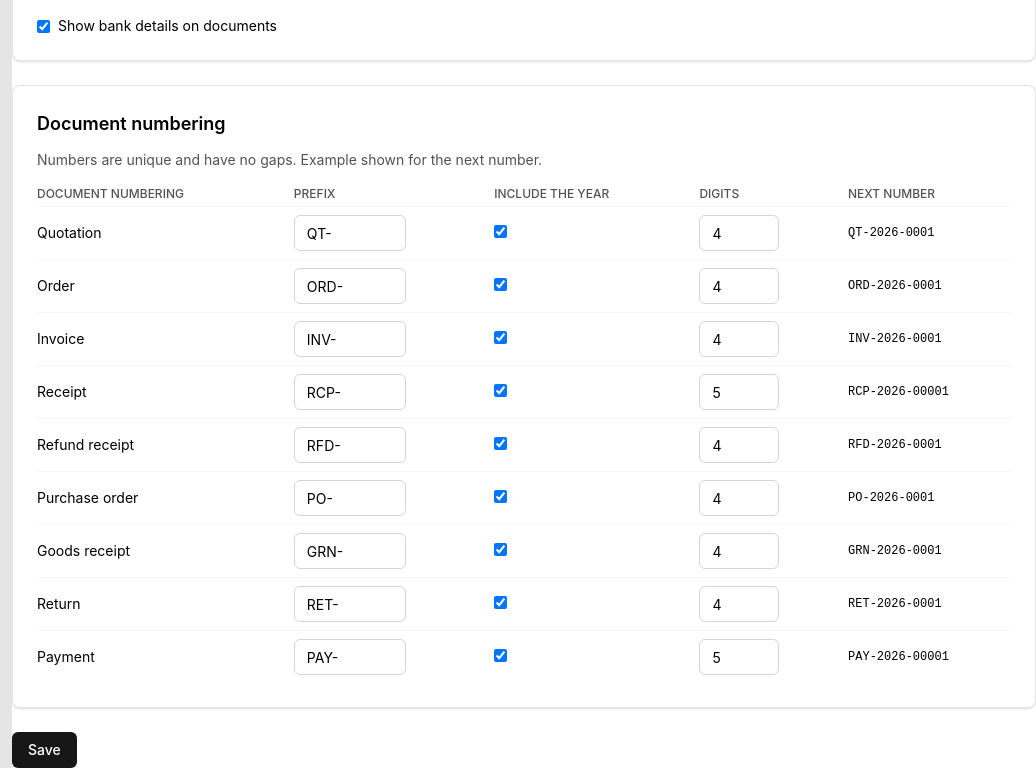
BusinessForm (task 14) › shows the server’s messages against the right field (by their setting path)
(page scrolled)
Click the button "Save" at (44,750), box [12,732,77,767]
(page scrolled)
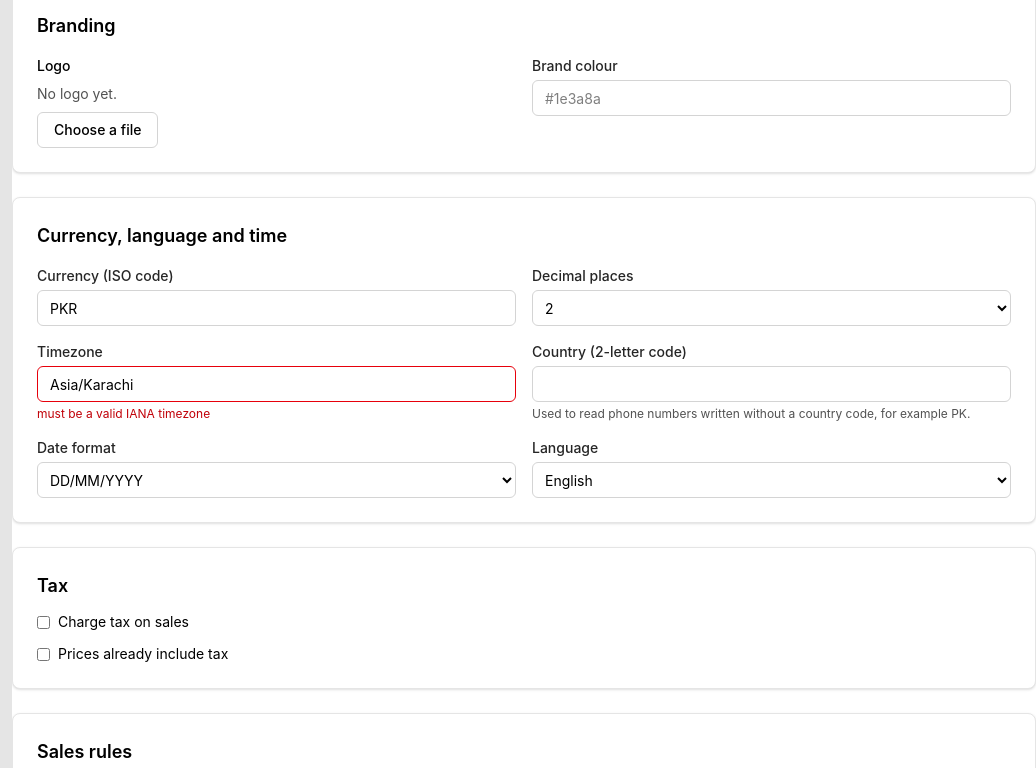
Now the text "must be a valid IANA timezone" is shown, box [37,406,210,421]
